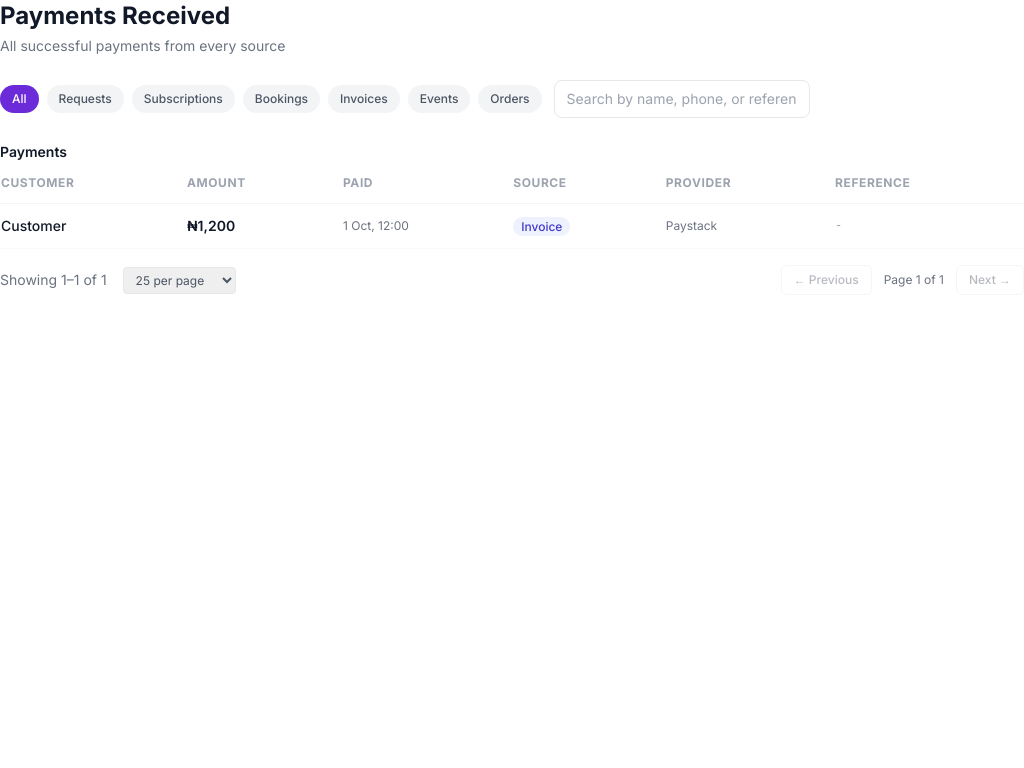
Test: W22 Payments Received mounted page › keeps successful booking-less payments visible under All
Expected: the text "Invoice" is shown, [513, 217, 570, 236]
What coordinates should you click on to do the following:
click the button with aria-label "View payment from Customer"
I would click on:
 (512, 226)
Its box is [0, 204, 1023, 248].
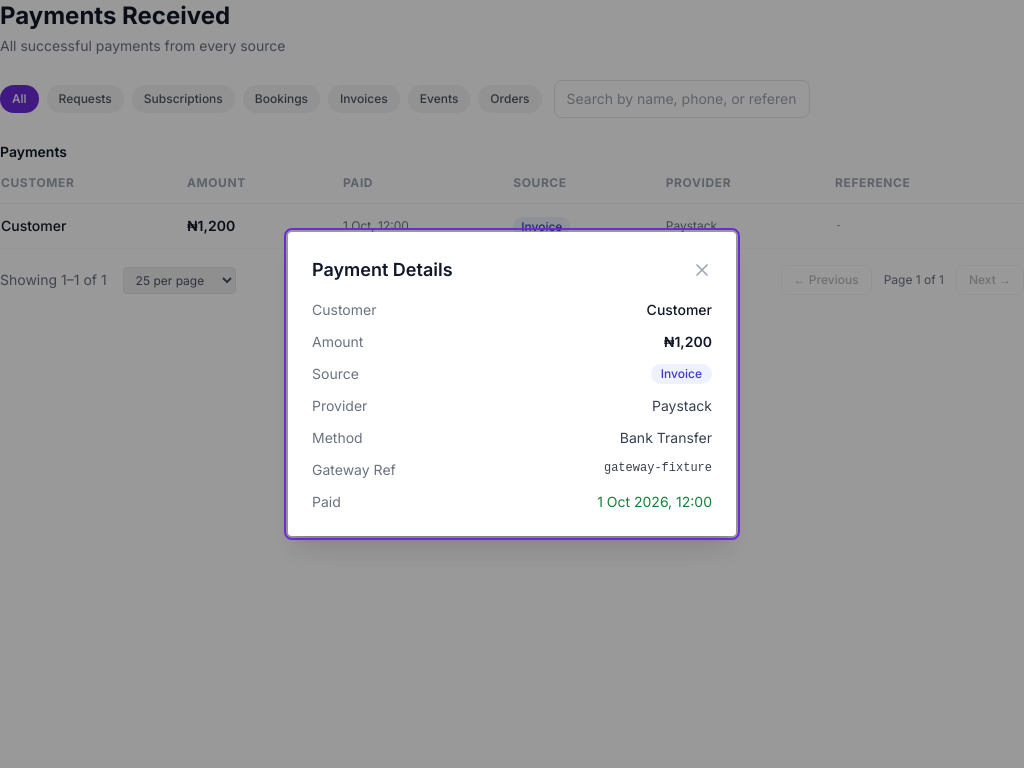
Now the 2nd text "Customer" is shown, box [647, 300, 712, 320]
